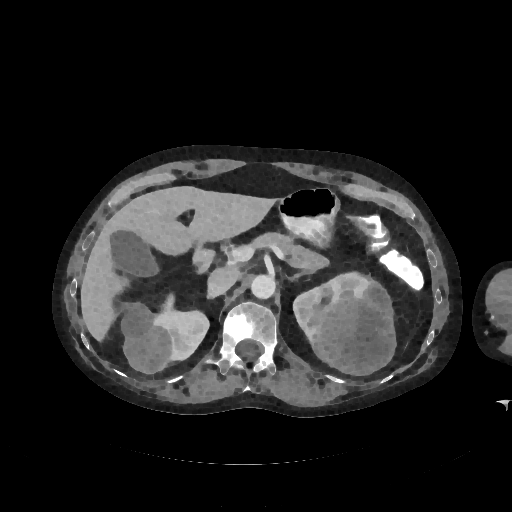Lesion: (119, 301, 175, 376)
